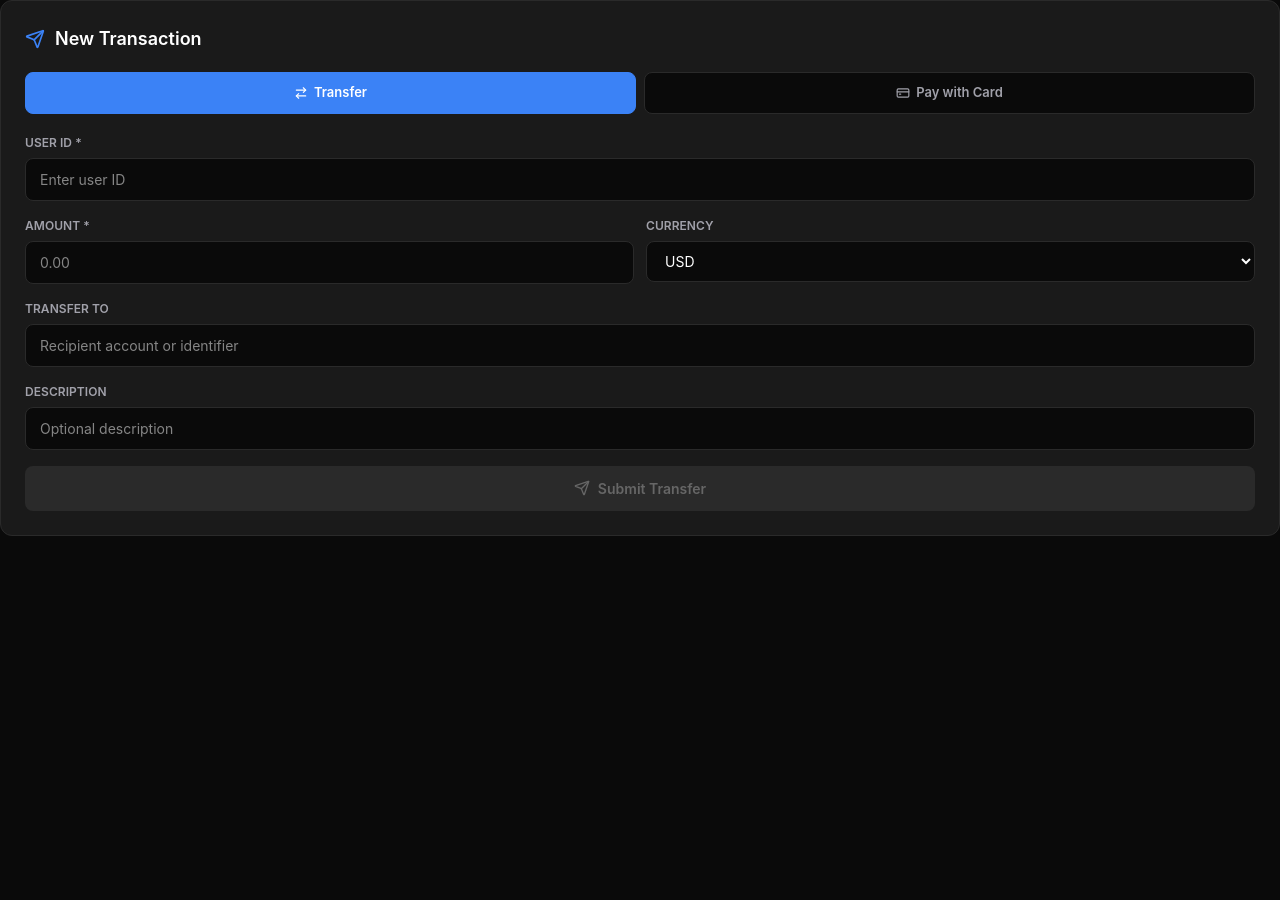
Test: TransactionForm › shows card fields when card mode selected
Click the button "Pay with Card".
click(950, 93)  # box x1=644 y1=72 x2=1255 y2=114
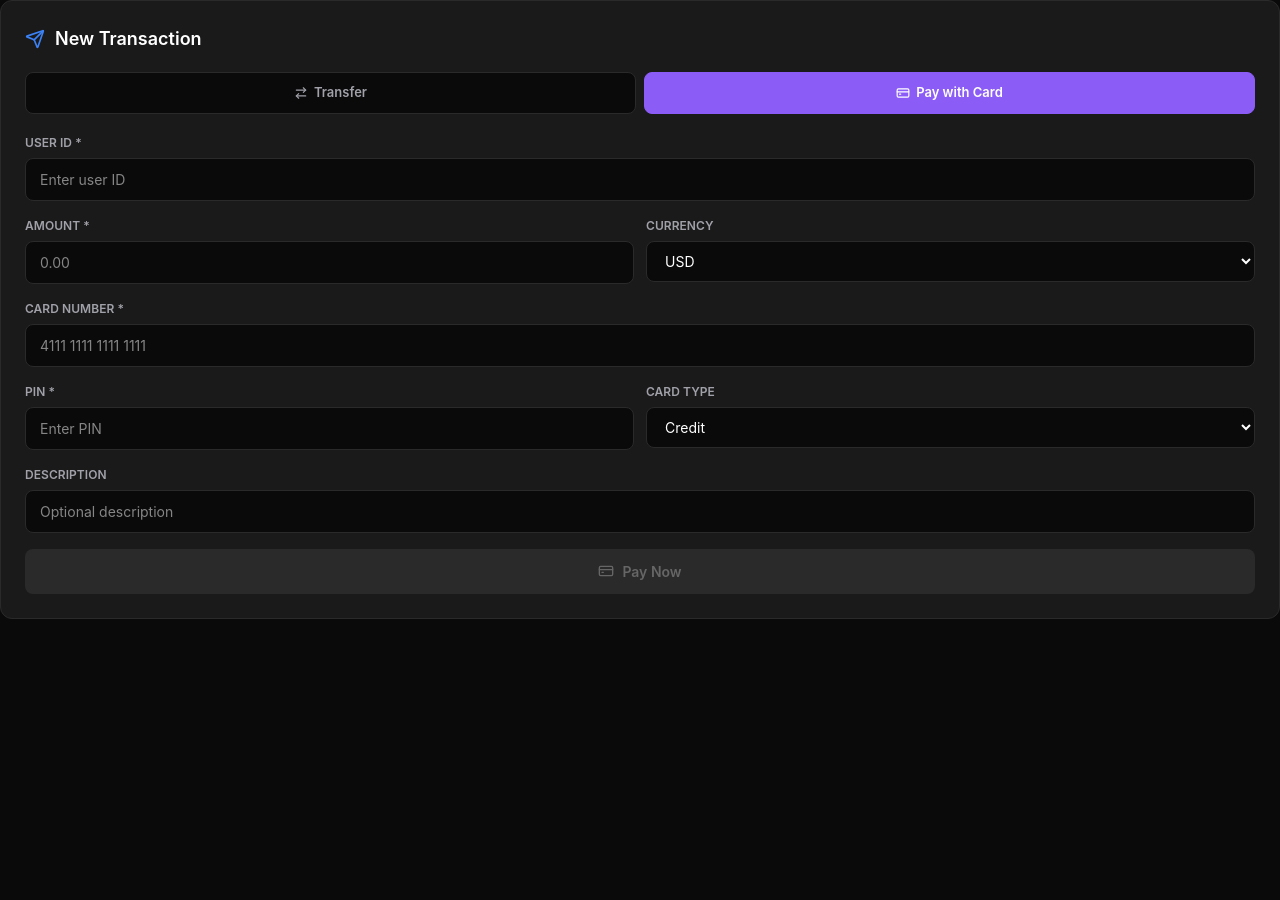
Now the field with test id "txn-pan" is shown, box x1=25 y1=324 x2=1255 y2=366
Now the password field with test id "txn-pin" is shown, box x1=25 y1=406 x2=634 y2=450
Now the dropdown with test id "txn-card-type" is shown, box x1=646 y1=406 x2=1255 y2=448
